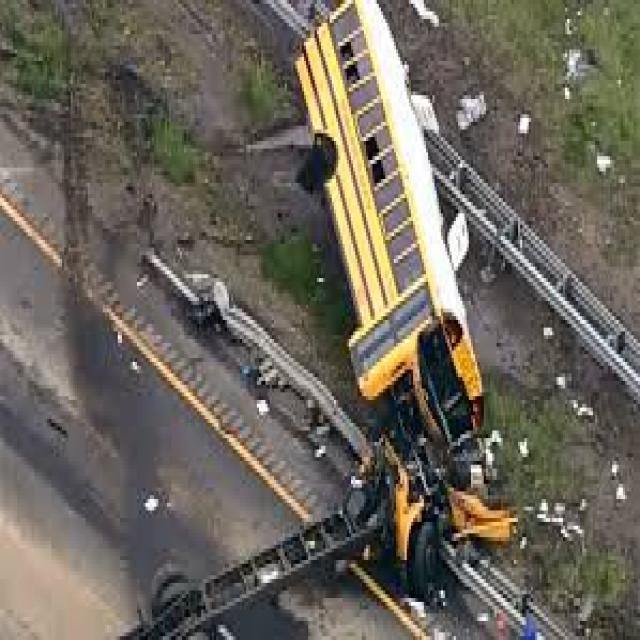accident: (243, 0, 583, 640)
